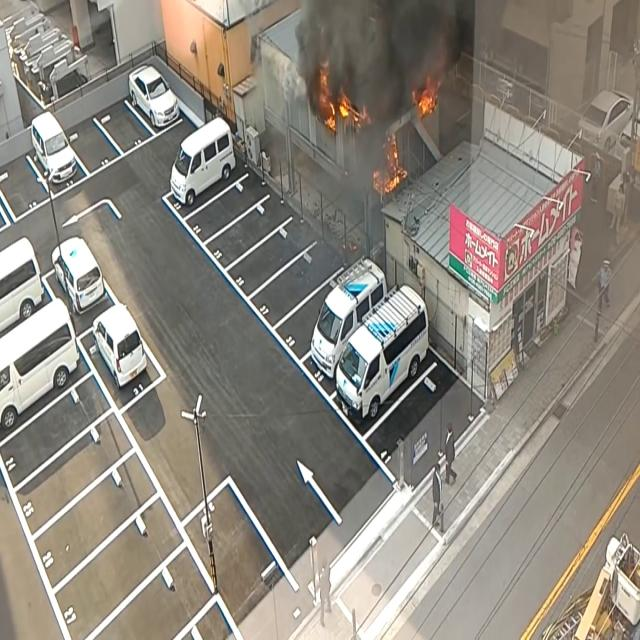Fire: (316, 66, 364, 134), (373, 128, 407, 200), (414, 72, 442, 125)
Smoke: (289, 0, 467, 138)
